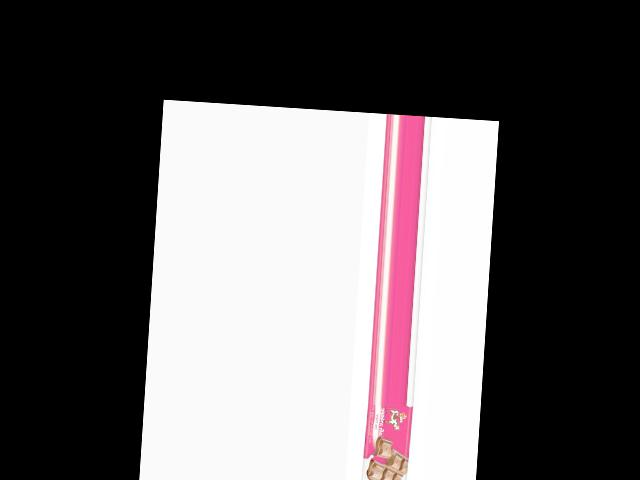chocolate: (362, 402, 412, 480)
